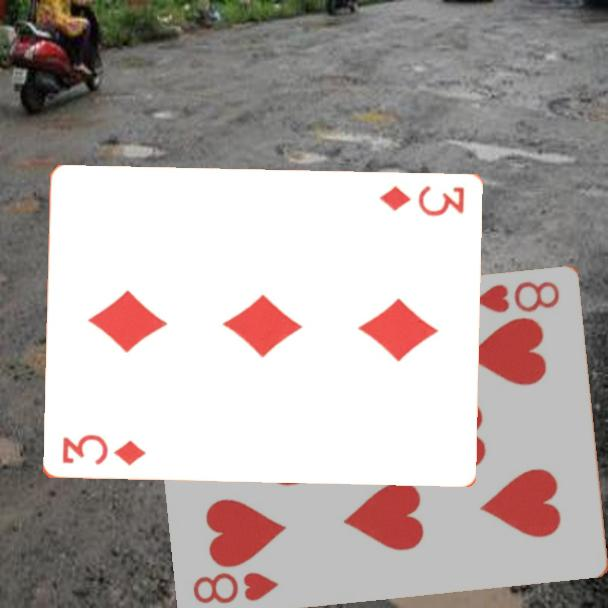d03: (376, 183, 467, 220), (58, 432, 148, 469)
h08: (471, 277, 563, 316), (190, 568, 282, 606)
